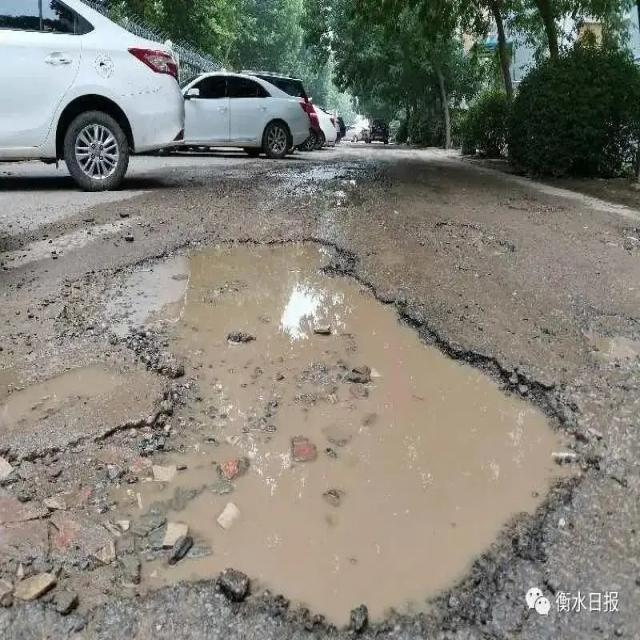Pothole: (74, 235, 590, 626)
